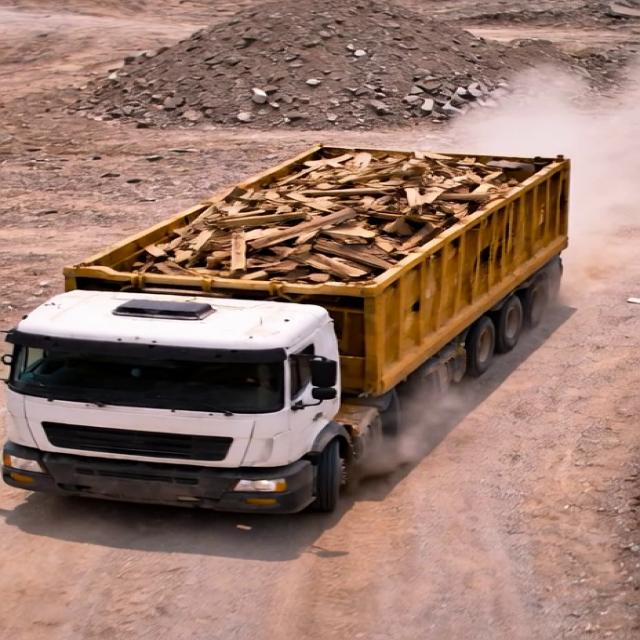Box: (54, 141, 584, 286)
Truck: (0, 120, 597, 524)
